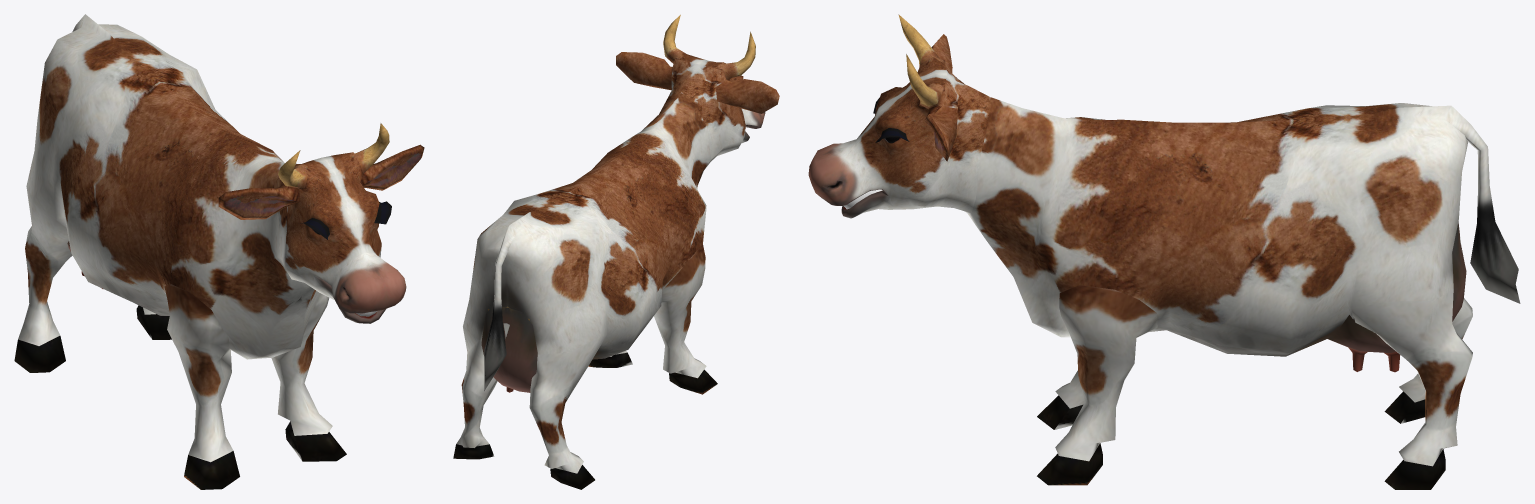
Rendered from Cow.fbx.
3 renders of one model, left to right at view 1: azimuth 30°, elevation 25°; view 2: azimuth 150°, elevation 25°; view 3: azimuth 270°, elevation 25°, orthographic. The views are drawn at different scales.
Visible parts, largest first — view 1: Cow; view 2: Cow; view 3: Cow.
Boxes of the visible parts, box(x1,y1,x2,y2) form: Cow: box(14, 14, 424, 489); Cow: box(453, 14, 779, 489); Cow: box(808, 14, 1520, 489).
Bounding box in the file's own units: 1 × 1.81 × 2.81.
